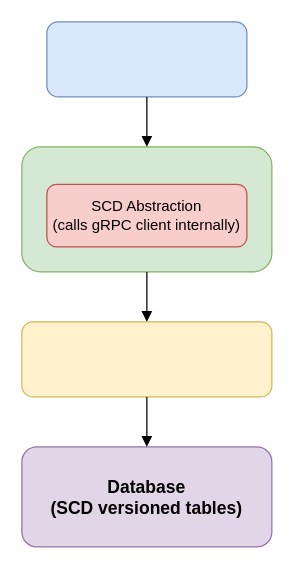
Some shapes in this 294 by 569 pixel diagram are drawn without their labels. The shapes that lost their labels are listed below. From the top down, each one's centre as x and y in pixels, then its label:
At (x=146, y=59): "Client (Web/Mobile UI)".
At (x=146, y=359): "SCD gRPC Service (Central logic)".
